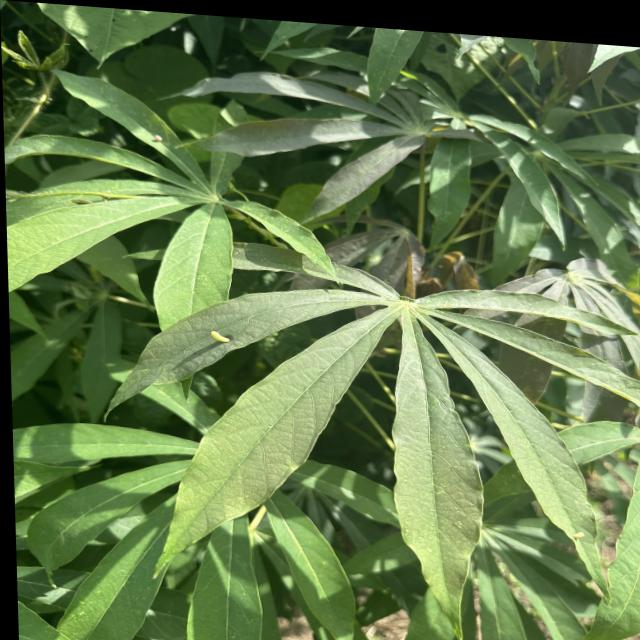Mosca: (204, 326, 235, 348), (567, 524, 587, 548), (574, 183, 591, 204), (149, 131, 166, 149)
